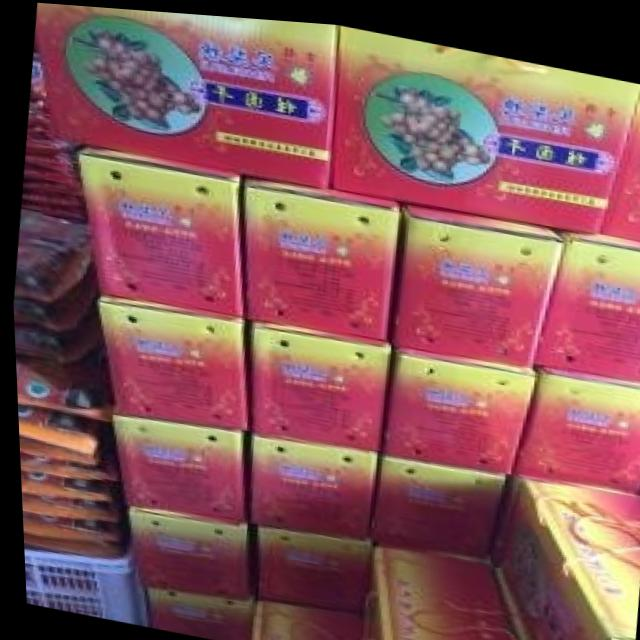box: (329, 20, 640, 225), (34, 2, 340, 183), (383, 194, 562, 359), (75, 143, 242, 312), (240, 171, 397, 334), (493, 471, 640, 640), (94, 293, 245, 427), (378, 340, 534, 466), (247, 318, 391, 445), (506, 355, 640, 485), (532, 218, 640, 372), (356, 539, 512, 640), (106, 412, 240, 520), (363, 447, 501, 551), (245, 432, 373, 534), (124, 508, 244, 595), (249, 520, 367, 607), (139, 584, 249, 640), (600, 87, 640, 232), (242, 597, 355, 640), (487, 557, 530, 640)
